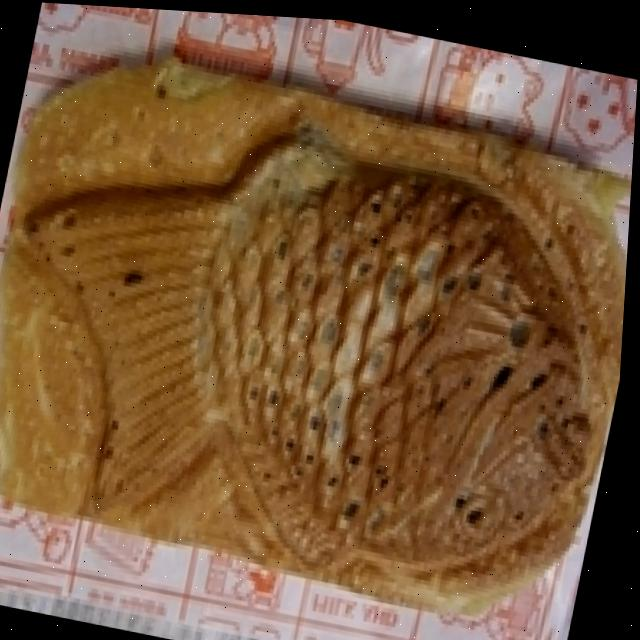熟制海鲜: (0, 94, 636, 620)
